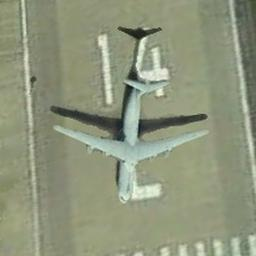Airplane: (60, 73, 205, 205)
